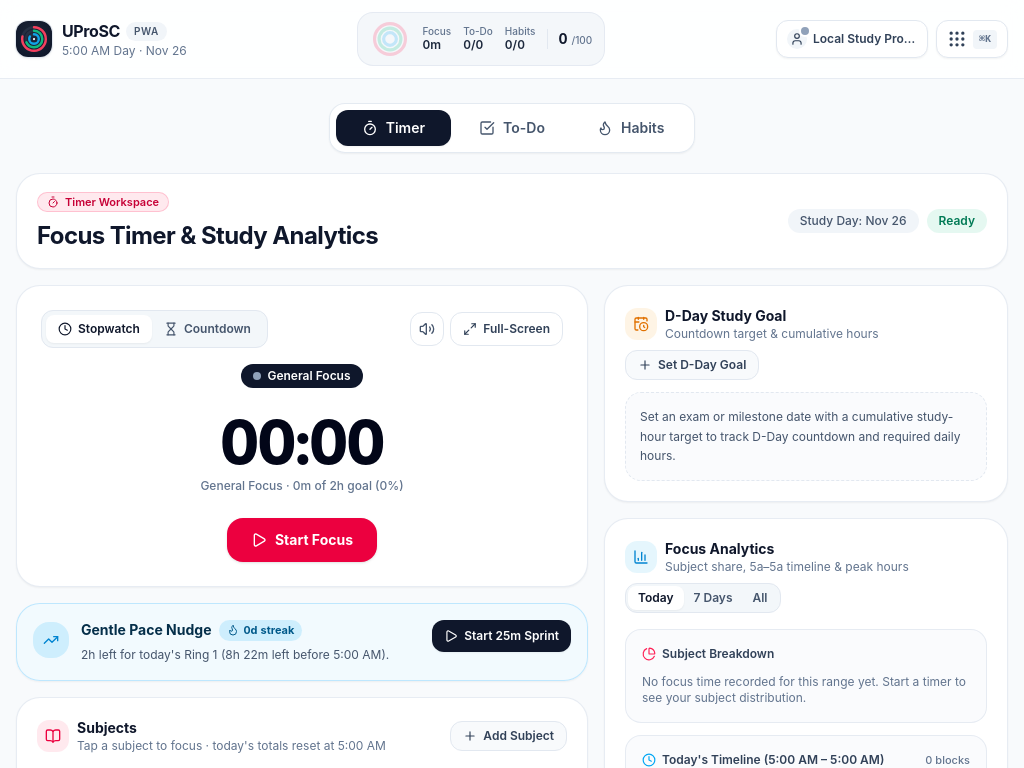
UProSC Phase 1 App Shell › toggles the 9-dot app launcher preview popover without affecting the active tab
The image size is (1024, 768).
Later steps or results of the test are not shown.
What coordinates should you click on to do the following:
click the button named "Open app launcher"
I would click on:
 (972, 39)
Its box is left=936, top=20, right=1008, bottom=58.
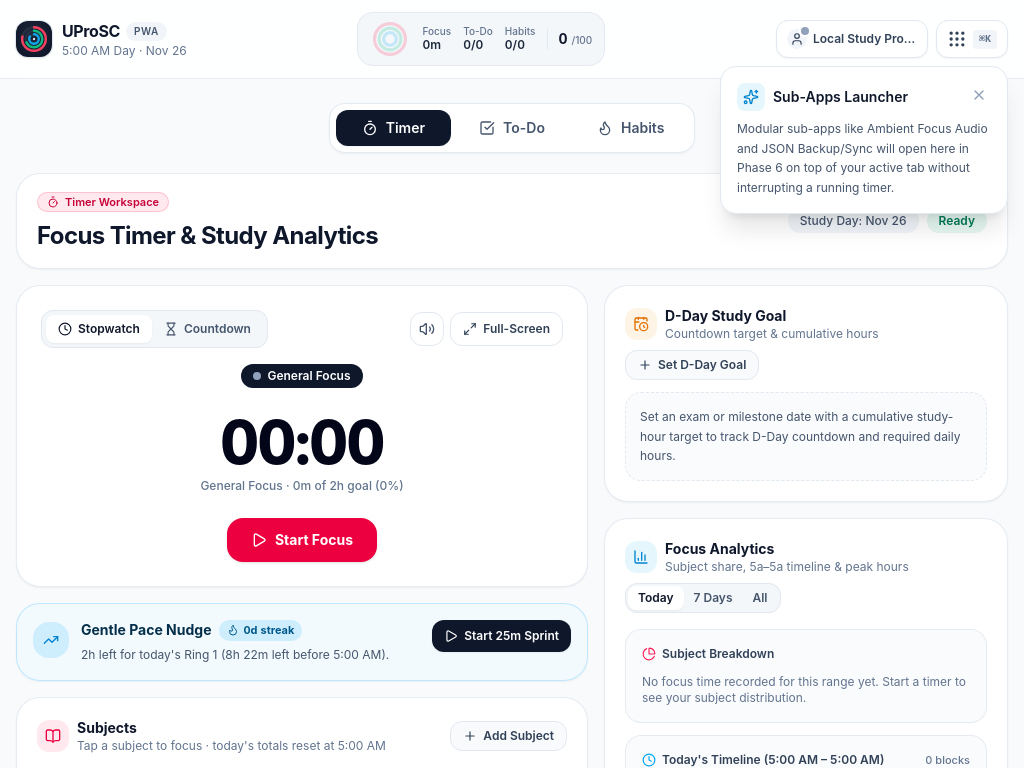
Result: the dialog named "Sub-App Launcher preview" is shown at left=720, top=66, right=1008, bottom=214
